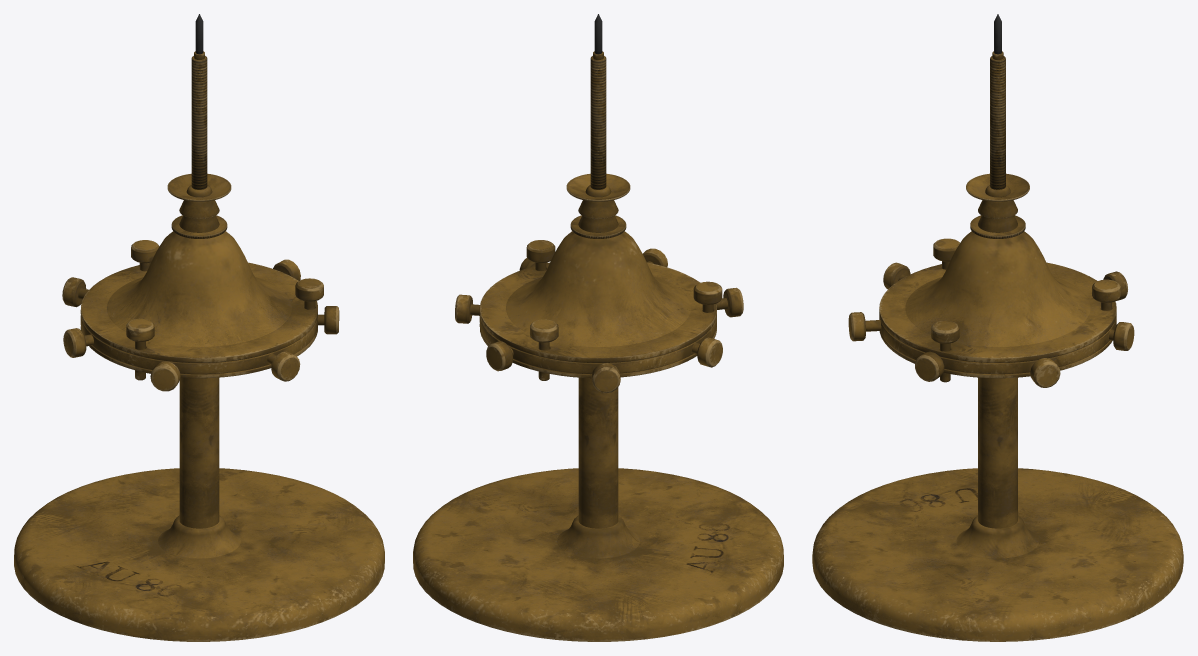
File: Volchok.gltf
The picture shows the model from 3 angles, left to right: view 1: azimuth 30°, elevation 25°; view 2: azimuth 150°, elevation 25°; view 3: azimuth 270°, elevation 25°; orthographic projection.
Parts seen in each view (by area): view 1: MeshBoolean v1.2; view 2: MeshBoolean v1.2; view 3: MeshBoolean v1.2.
Part boxes in pixels (box(x1,y1,x2,y2)): MeshBoolean v1.2: box(14, 14, 384, 641); MeshBoolean v1.2: box(413, 14, 783, 641); MeshBoolean v1.2: box(812, 14, 1183, 641).
Size of the model in its own units: 200 by 327 by 200.
1 material, 1 textured.
